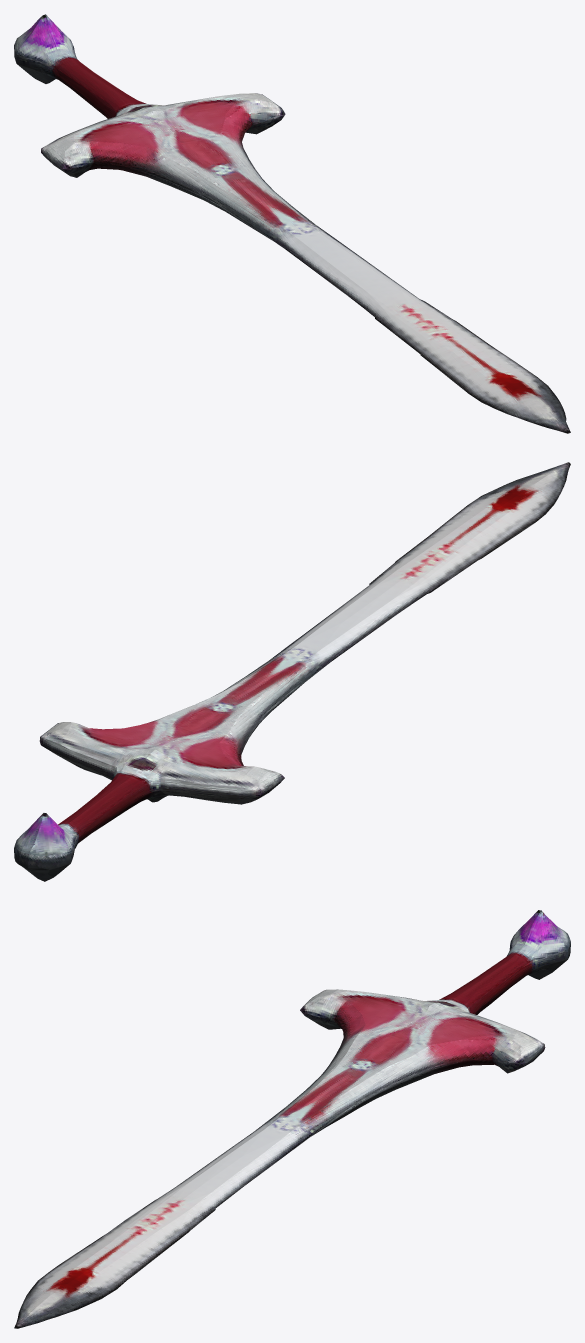
The picture shows the model from 3 angles, top to bottom: view 1: azimuth 30°, elevation 25°; view 2: azimuth 150°, elevation 25°; view 3: azimuth 330°, elevation 25°; orthographic projection.
Parts seen in each view (by area): view 1: world; view 2: world; view 3: world.
Boxes of the visible parts, x1=… form: world: x1=14, y1=14, x2=570, y2=433; world: x1=14, y1=462, x2=570, y2=881; world: x1=14, y1=910, x2=570, y2=1328.
Size of the model in its own units: 0.2393 by 0.071 by 0.9995.
1 material, 1 textured.
